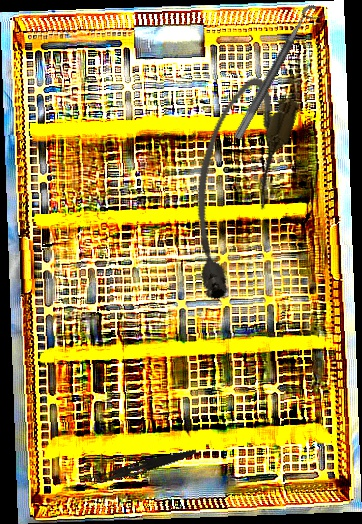Cannula: (161, 69, 305, 309)
Dressing Forceps: (88, 443, 198, 490)
Fixation Ring: (232, 1, 327, 147)
